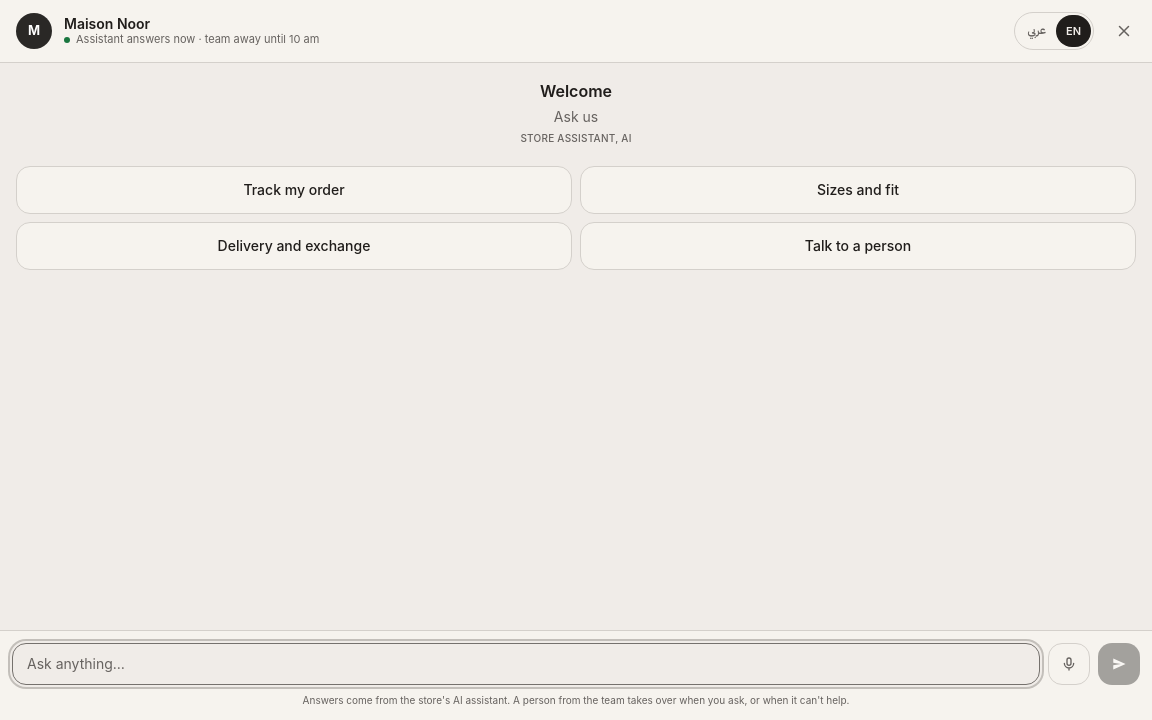
Test: Chat-States: after hours, nobody pretends to be there › offers more help only where the assistant really answers after hours (n23)
The image size is (1152, 720).
(page scrolled)
Click the button "Talk to a person".
click(858, 246)  # box [580,222,1136,270]
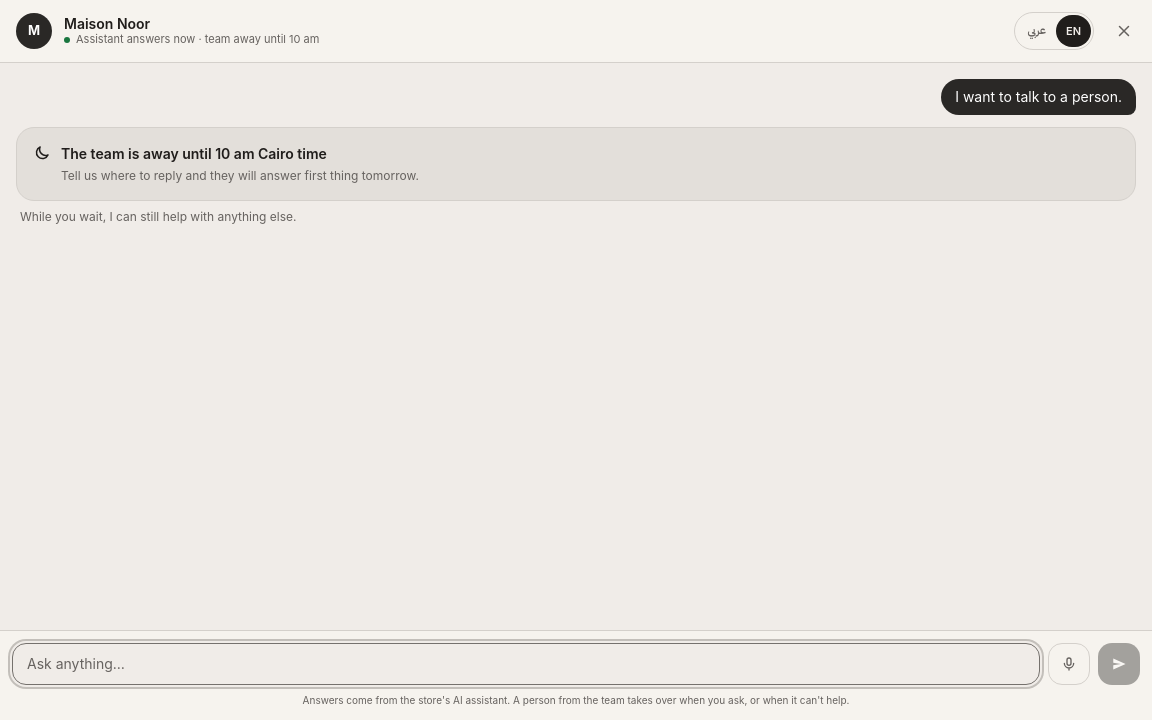
Now the message is shown, box [16,127,1136,201]
Now the text "While you wait, I can still help with anything else." is shown, box [20,209,296,224]
